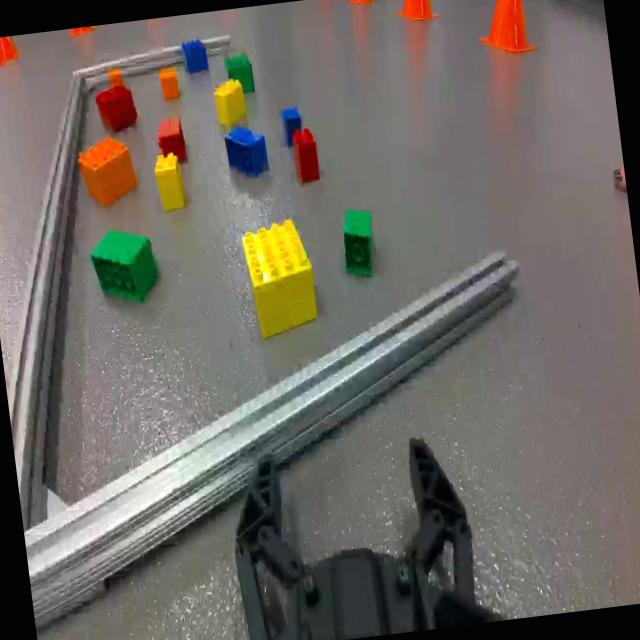block: (240, 218, 318, 335), (153, 153, 190, 212), (214, 77, 248, 127)
blue: (224, 122, 269, 178), (180, 36, 210, 78), (280, 101, 302, 142)
cone: (472, 0, 534, 58), (396, 0, 439, 25), (0, 35, 18, 67), (68, 26, 95, 40), (344, 0, 379, 5)
green: (89, 225, 160, 307), (338, 205, 378, 278), (226, 50, 256, 96)
metal barrier: (0, 0, 555, 633)
orange: (76, 136, 140, 204), (157, 66, 180, 100), (109, 67, 122, 85)
red goal: (94, 84, 140, 138), (292, 126, 320, 179), (154, 116, 188, 158)
